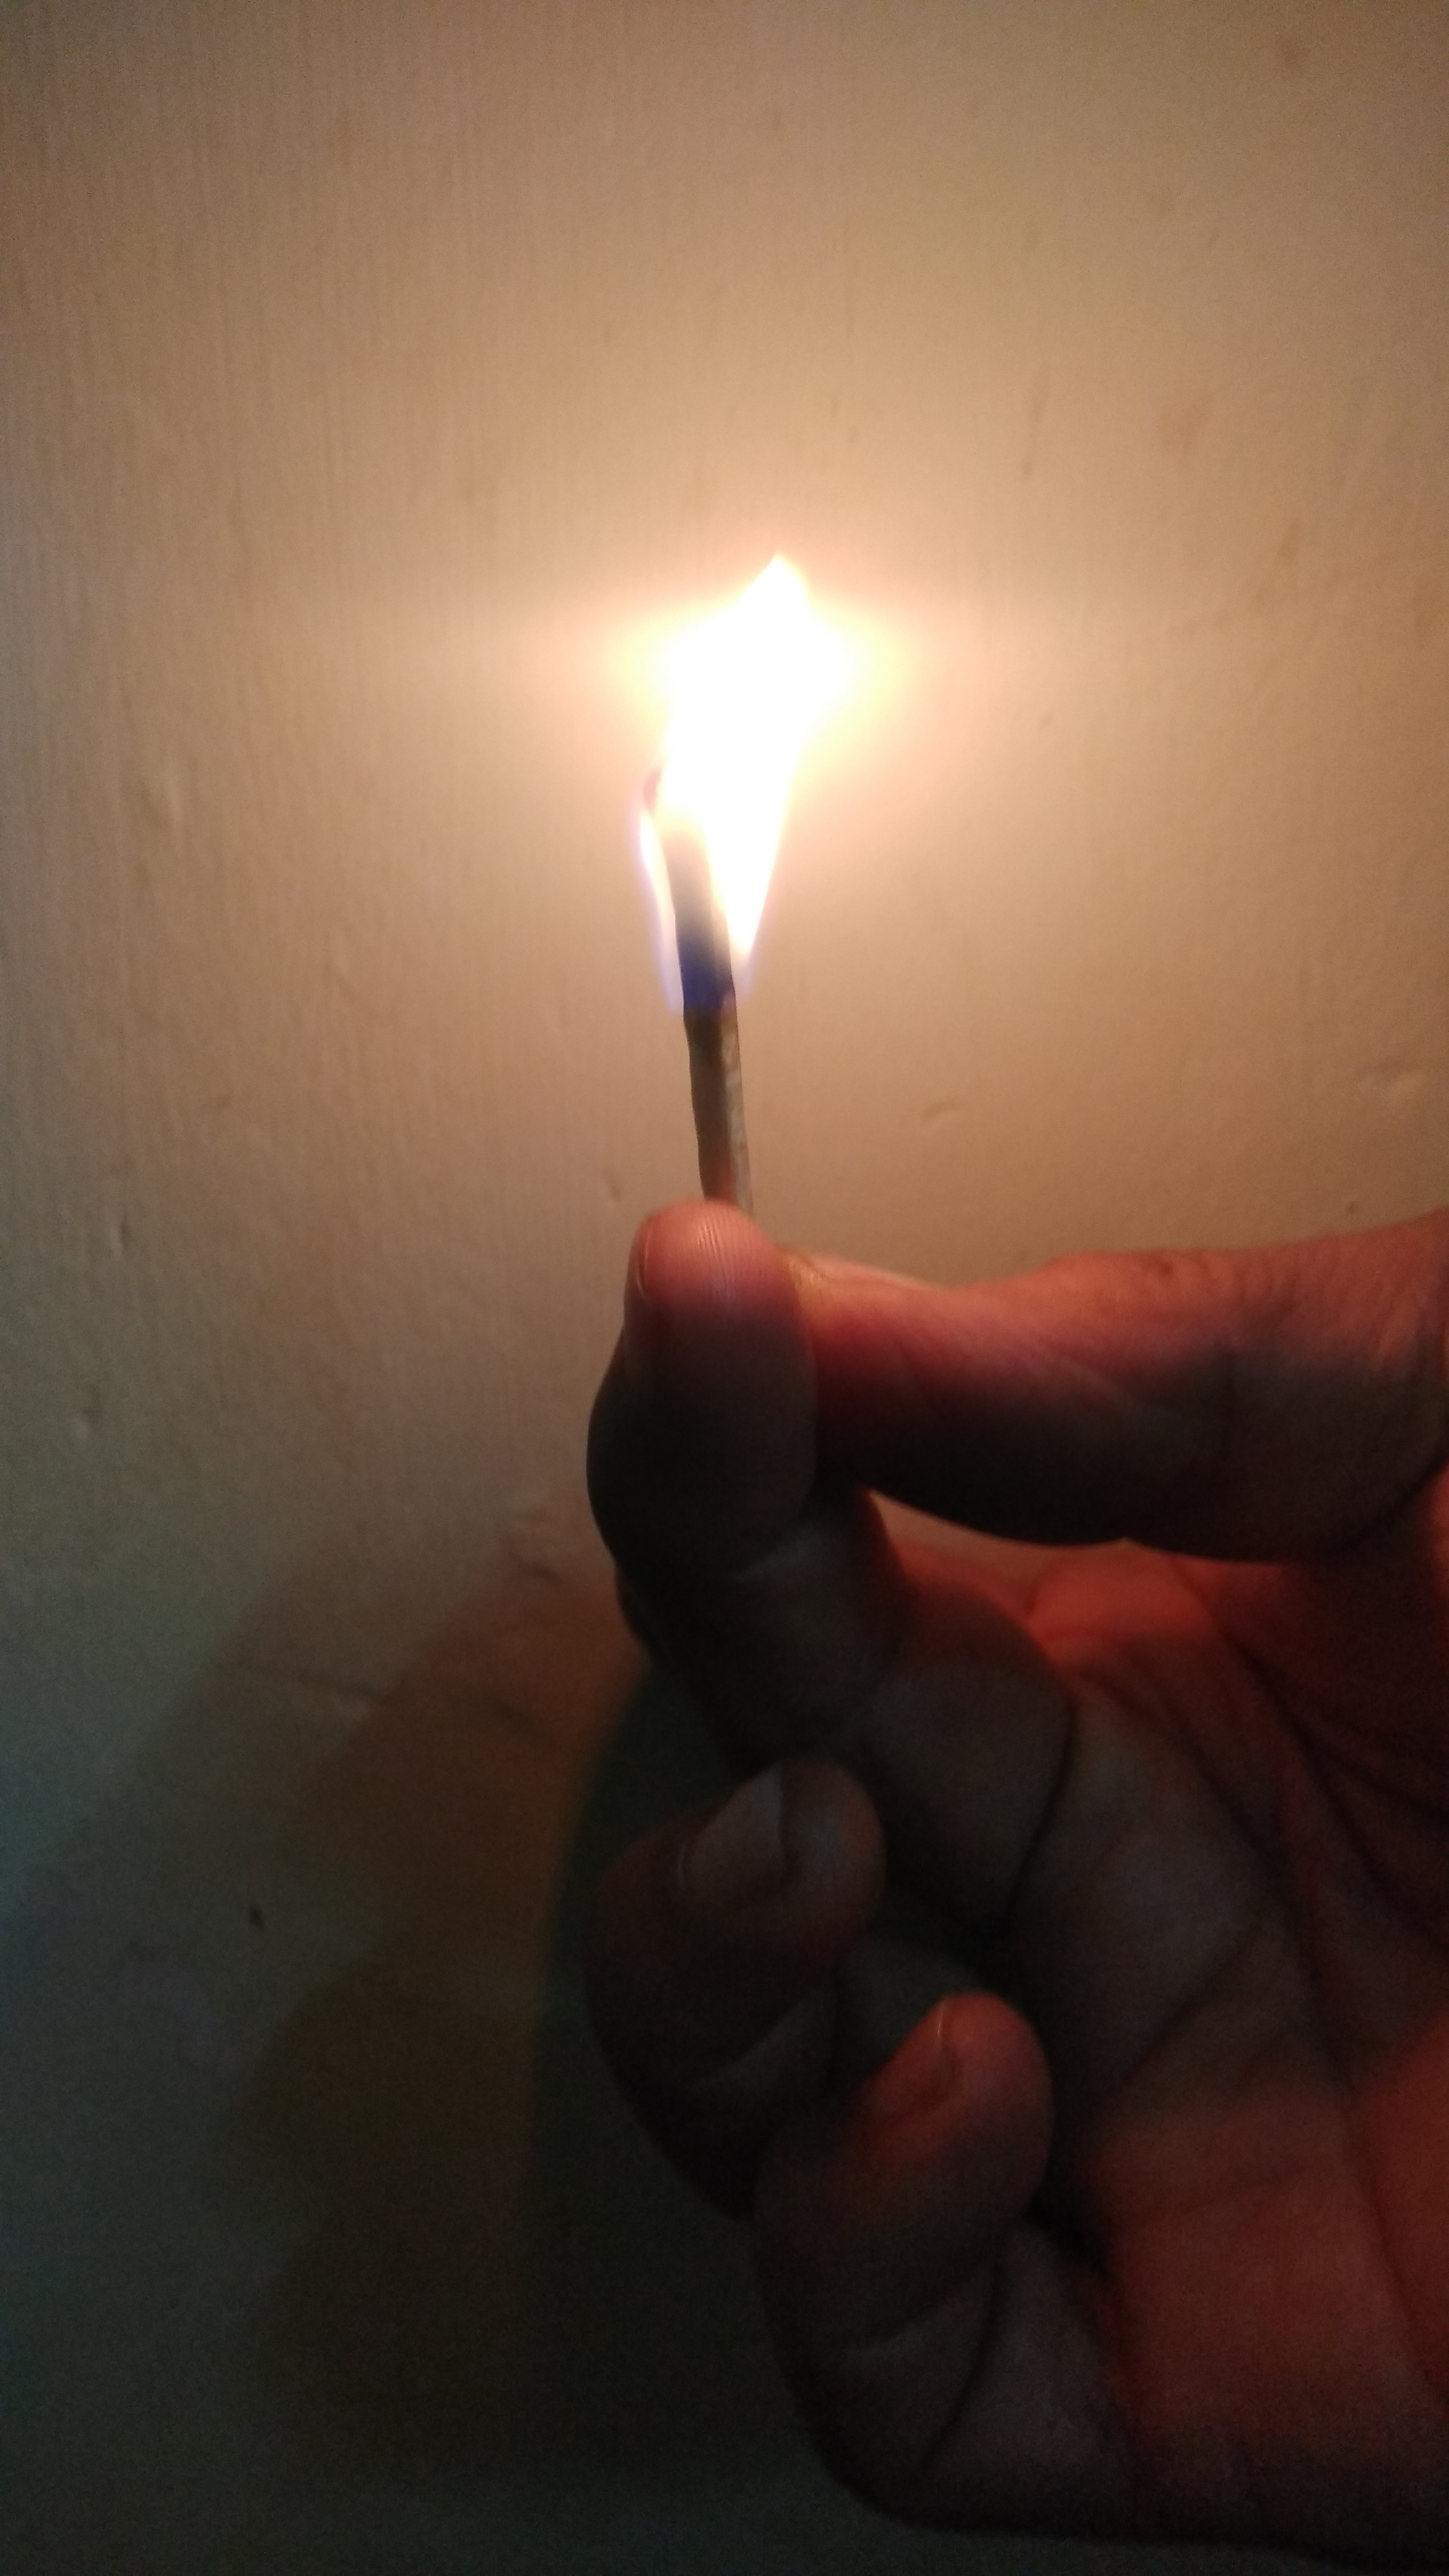Fire: (628, 545, 867, 1003)
